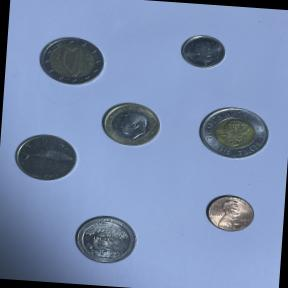1 Euro-B: (96, 96, 163, 150)
2 Euro-B: (33, 32, 110, 92)
Canada-10cent-B: (174, 31, 230, 75)
Canada-2Dollar-B: (192, 102, 274, 166)
Croatia-2Kune-B: (9, 130, 82, 187)
US-1cent-B: (201, 190, 258, 236)
US-25cent-B: (68, 212, 141, 268)
